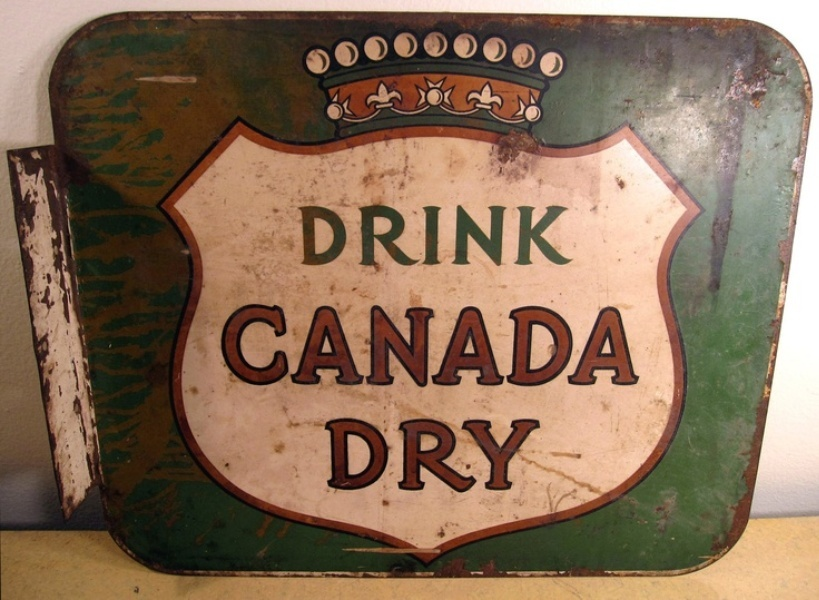text: (225, 303, 240, 389), (241, 303, 256, 389), (257, 303, 272, 389), (273, 303, 288, 389), (289, 303, 304, 389), (305, 303, 320, 389), (321, 303, 336, 389), (337, 303, 352, 389), (353, 303, 368, 389), (369, 303, 384, 389), (385, 303, 400, 389), (401, 303, 416, 389), (417, 303, 432, 389), (433, 303, 448, 389), (449, 303, 464, 389), (465, 303, 480, 389), (481, 303, 496, 389), (497, 303, 512, 389), (513, 303, 528, 389), (529, 303, 544, 389), (545, 303, 560, 389), (561, 303, 576, 389), (577, 303, 592, 389), (593, 303, 608, 389), (609, 303, 624, 389), (625, 303, 640, 389), (337, 417, 352, 495), (353, 417, 368, 495), (369, 417, 384, 495), (385, 417, 400, 495), (401, 417, 416, 495), (417, 417, 432, 495), (433, 417, 448, 495), (449, 417, 464, 495), (465, 417, 480, 495), (481, 417, 496, 495), (497, 417, 512, 495), (513, 417, 528, 495), (529, 417, 544, 495), (323, 417, 336, 495), (305, 203, 320, 267), (321, 203, 336, 267), (337, 203, 352, 267), (353, 203, 368, 267), (369, 203, 384, 267), (385, 203, 400, 267), (401, 203, 416, 267), (417, 203, 432, 267), (433, 203, 448, 267), (449, 203, 464, 267), (465, 203, 480, 267), (481, 203, 496, 267), (497, 203, 512, 267), (513, 203, 528, 267), (529, 203, 544, 267), (545, 203, 560, 267), (561, 203, 575, 267), (296, 203, 304, 267), (220, 303, 224, 389), (641, 303, 643, 389), (545, 417, 547, 495)
